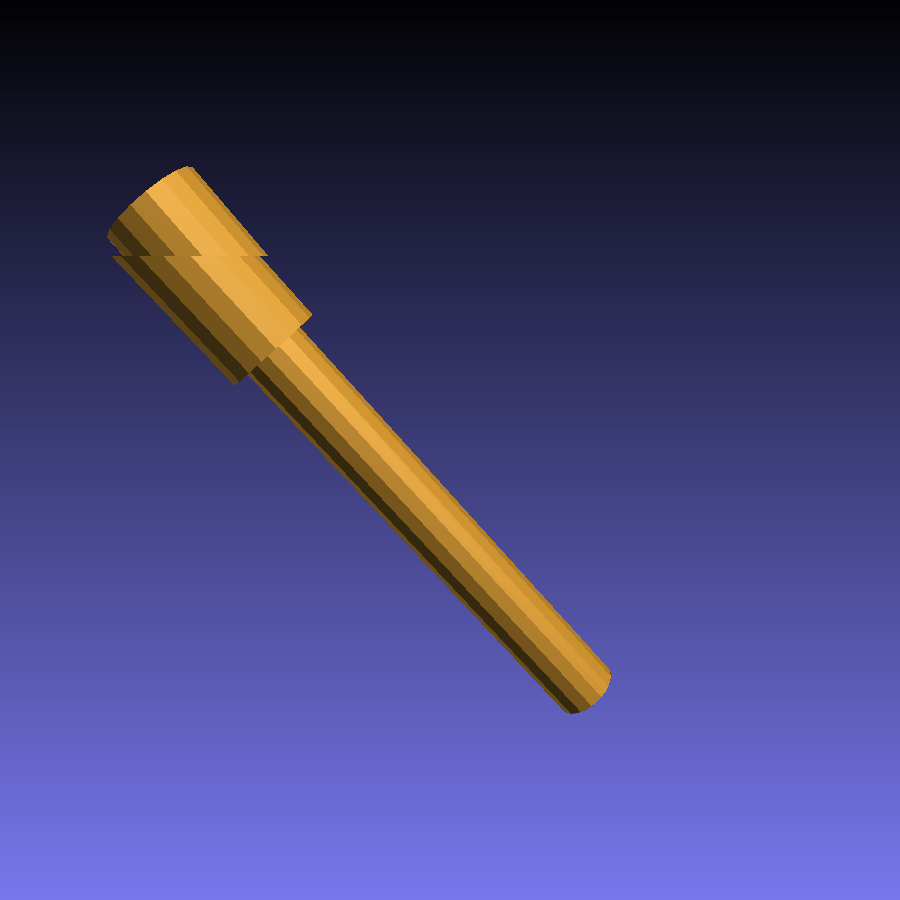cargo_g: (109, 166, 617, 715)
